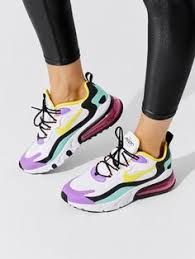nike: (51, 110, 85, 144), (124, 168, 160, 181)
